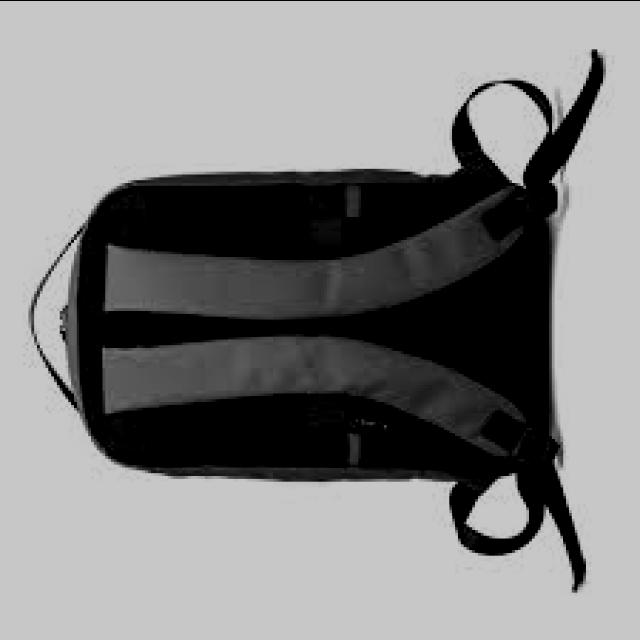backpack: (27, 50, 605, 596)
